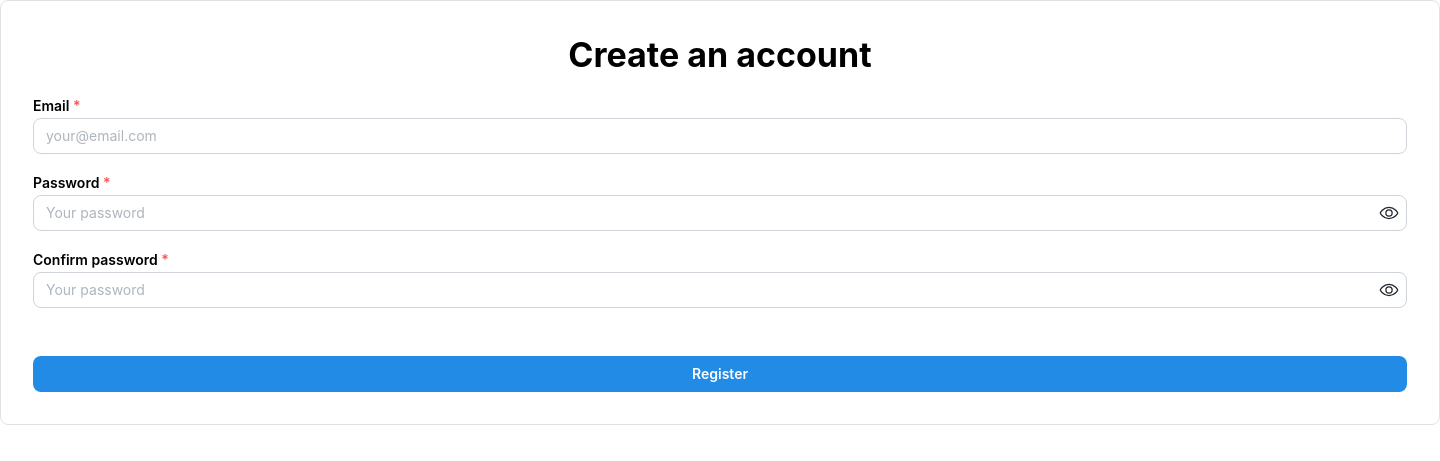
Test: Register › rejects a password that matches the email
In the field labelled "Email *": (720, 136) x1=33 y1=118 x2=1407 y2=154, type "ada@example.com"
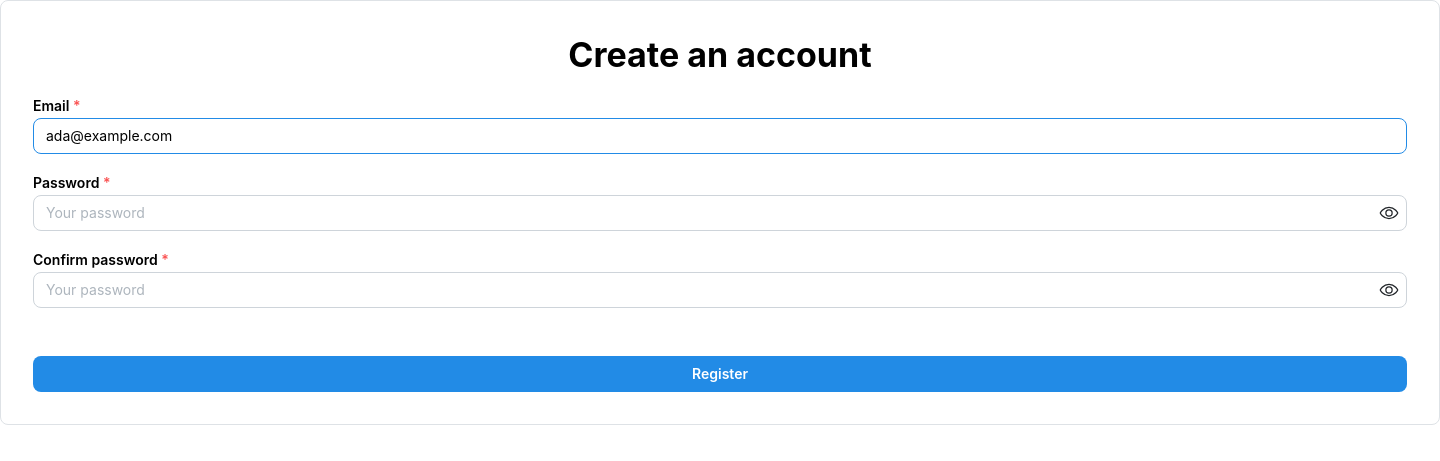
In the password field labelled "Password *": (720, 213) x1=34 y1=196 x2=1406 y2=230, type "ada@example.com"
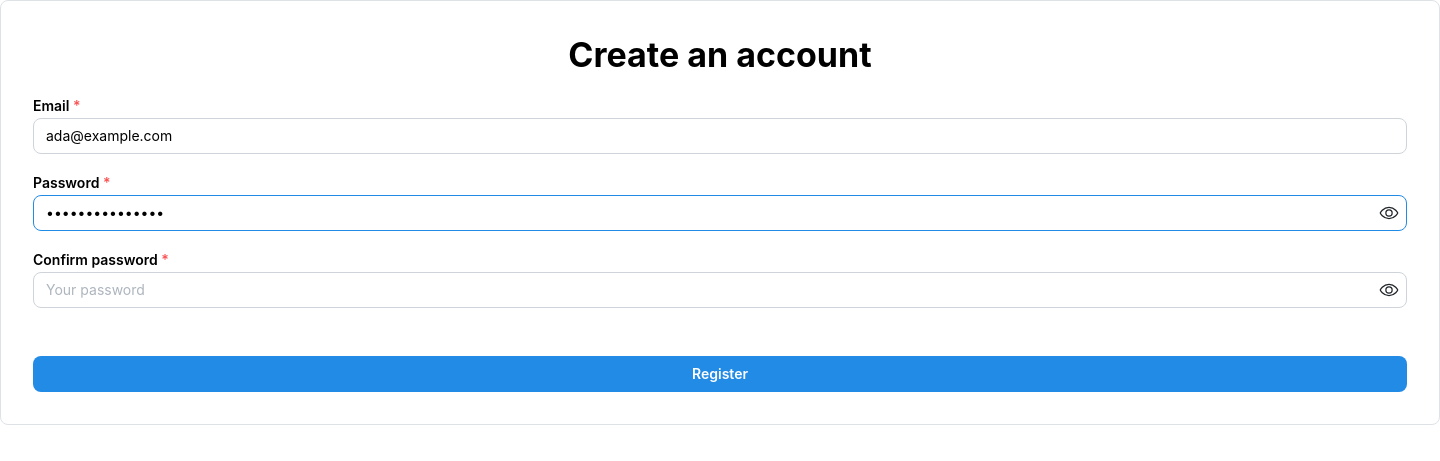
In the password field labelled "Confirm password *": (720, 290) x1=34 y1=273 x2=1406 y2=307, type "ada@example.com"
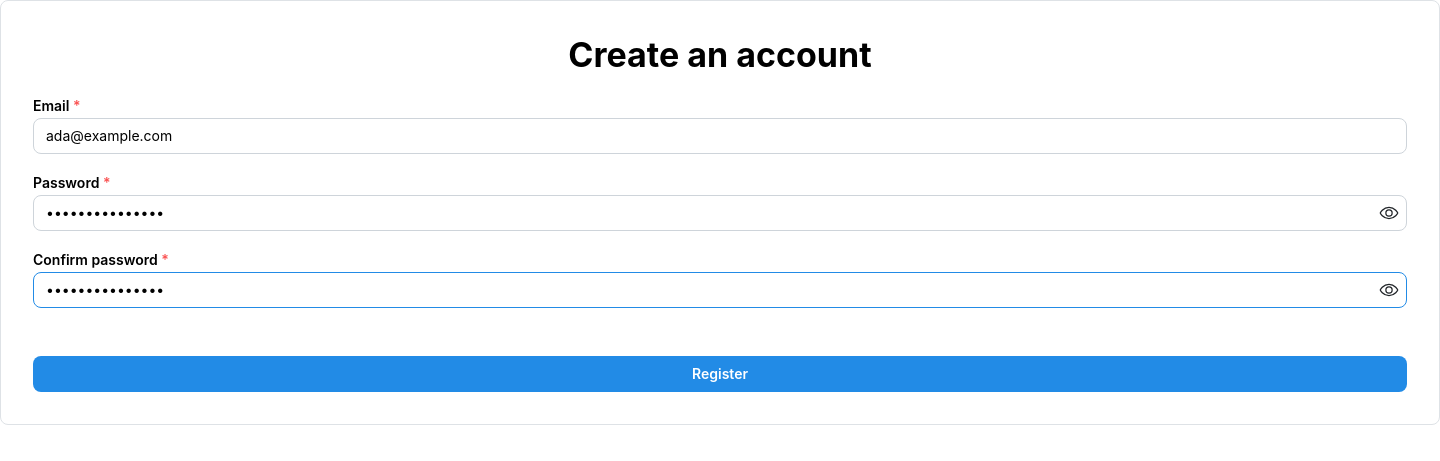
Click the button "Register": (720, 374) x1=33 y1=356 x2=1407 y2=392
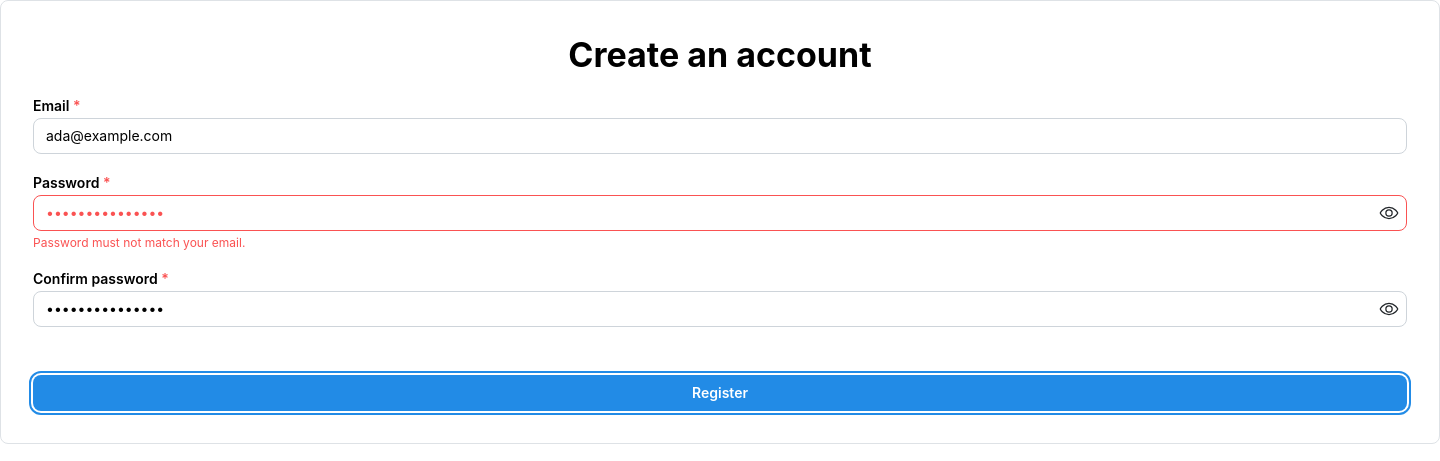
Expected: the text "Password must not match your email." is shown, x1=33 y1=235 x2=245 y2=250
